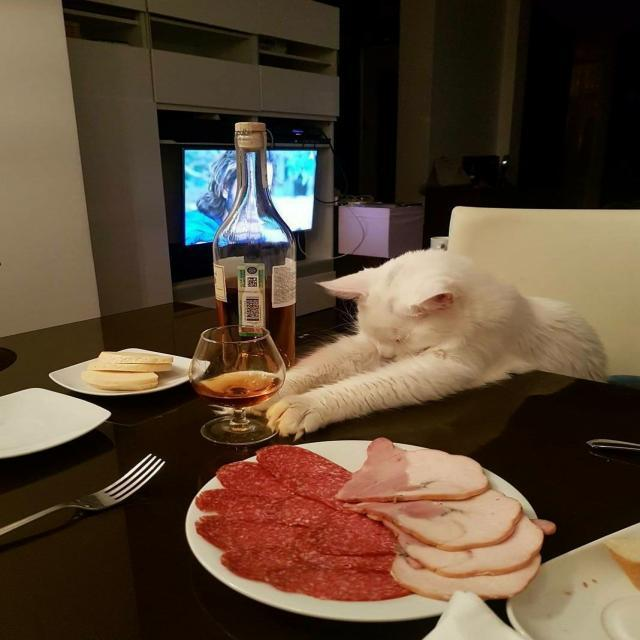cat: (309, 244, 614, 403)
